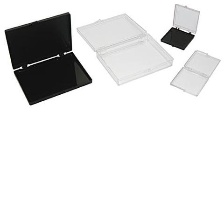plastic_box: (0, 7, 95, 109), (70, 7, 177, 90), (166, 45, 223, 100), (155, 0, 204, 55)
